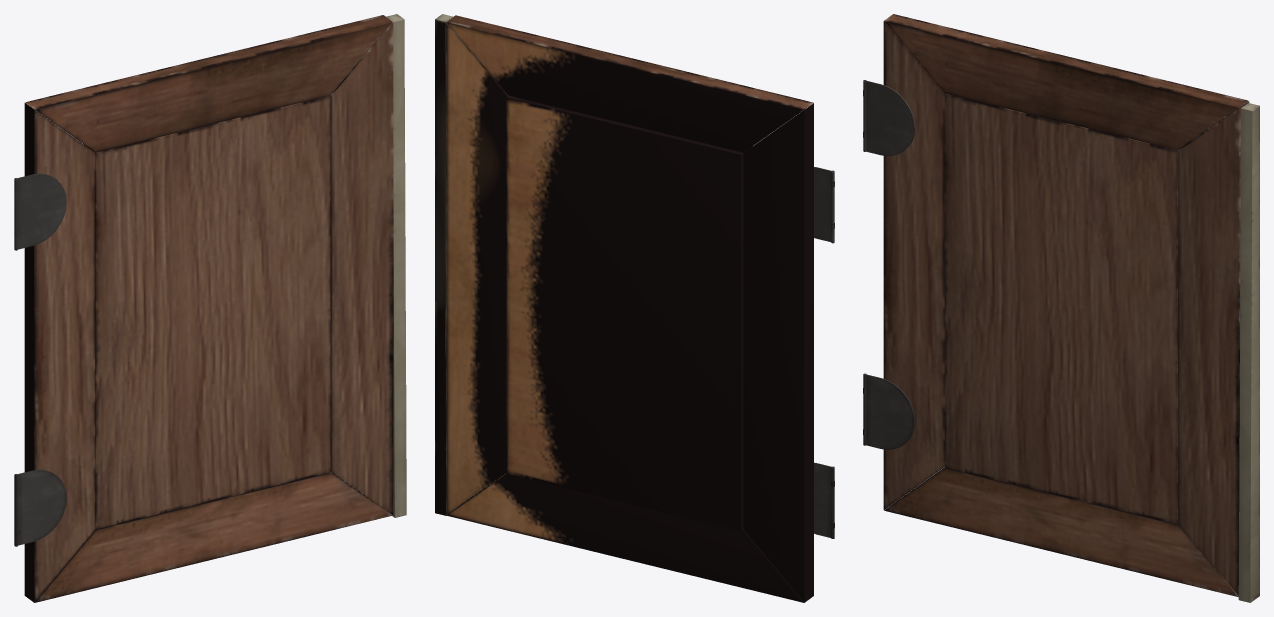
The model's file is SM_CupBoard205_DoorL.fbx.
3 renders of one model, left to right at view 1: azimuth 30°, elevation 25°; view 2: azimuth 150°, elevation 25°; view 3: azimuth 330°, elevation 25°, orthographic.
Parts seen in each view (by area): view 1: SM_CupBoard205_DoorL; view 2: SM_CupBoard205_DoorL; view 3: SM_CupBoard205_DoorL.
Boxes of the visible parts, box(x1,y1,x2,y2) form: SM_CupBoard205_DoorL: box(14, 14, 406, 602); SM_CupBoard205_DoorL: box(435, 14, 834, 602); SM_CupBoard205_DoorL: box(863, 14, 1259, 602).
Size of the model in its own units: 46.69 by 56.48 by 2.7.
Materials: 1 (1 with a texture image).
